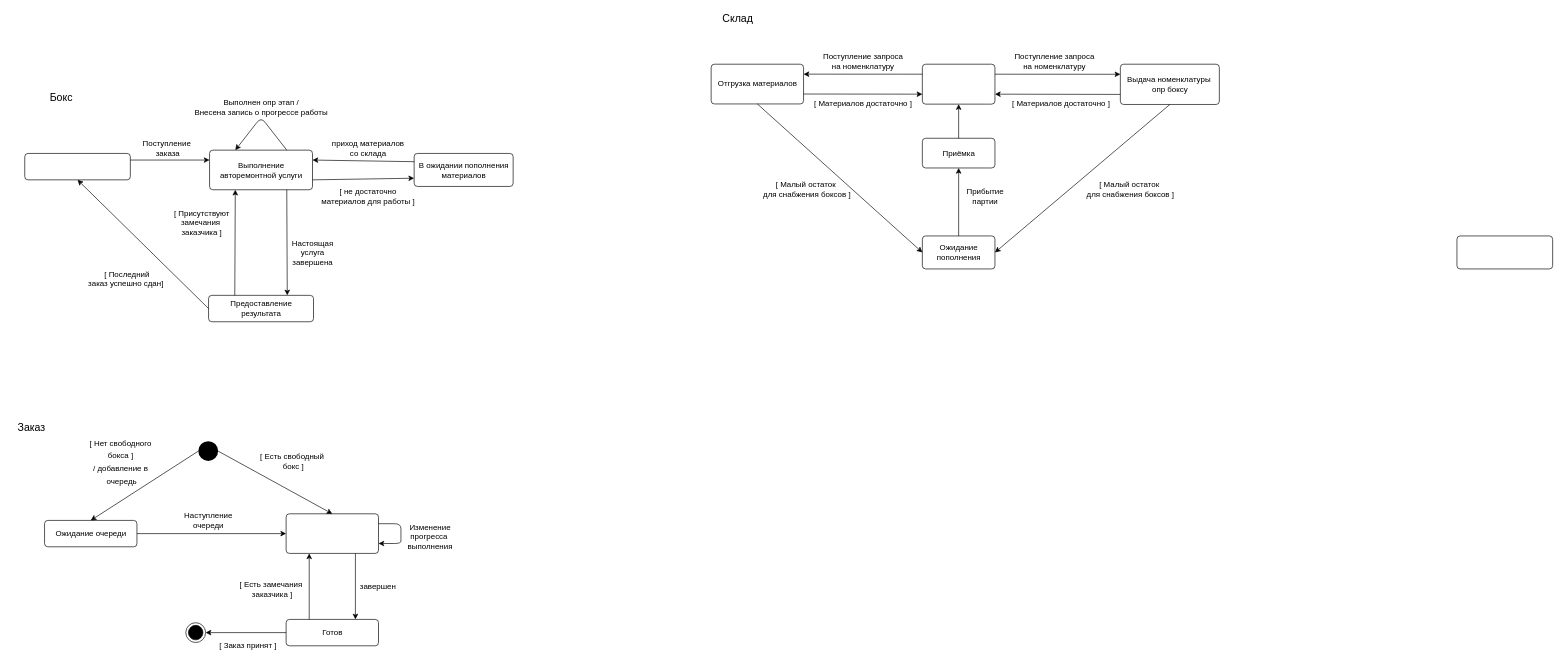
Image size: 1564x663. Some labels were removed from this diagram. The centre of each missing label's shape, as x and y in pixels:
"В процессе выполнения" goes at pixel 332 533.
"Готов к приёму заказов" goes at pixel 77 166.
"Ожидание запросов" goes at pixel 958 84.
"Отгрузка номенклатуры на продажу" goes at pixel 1504 252.
